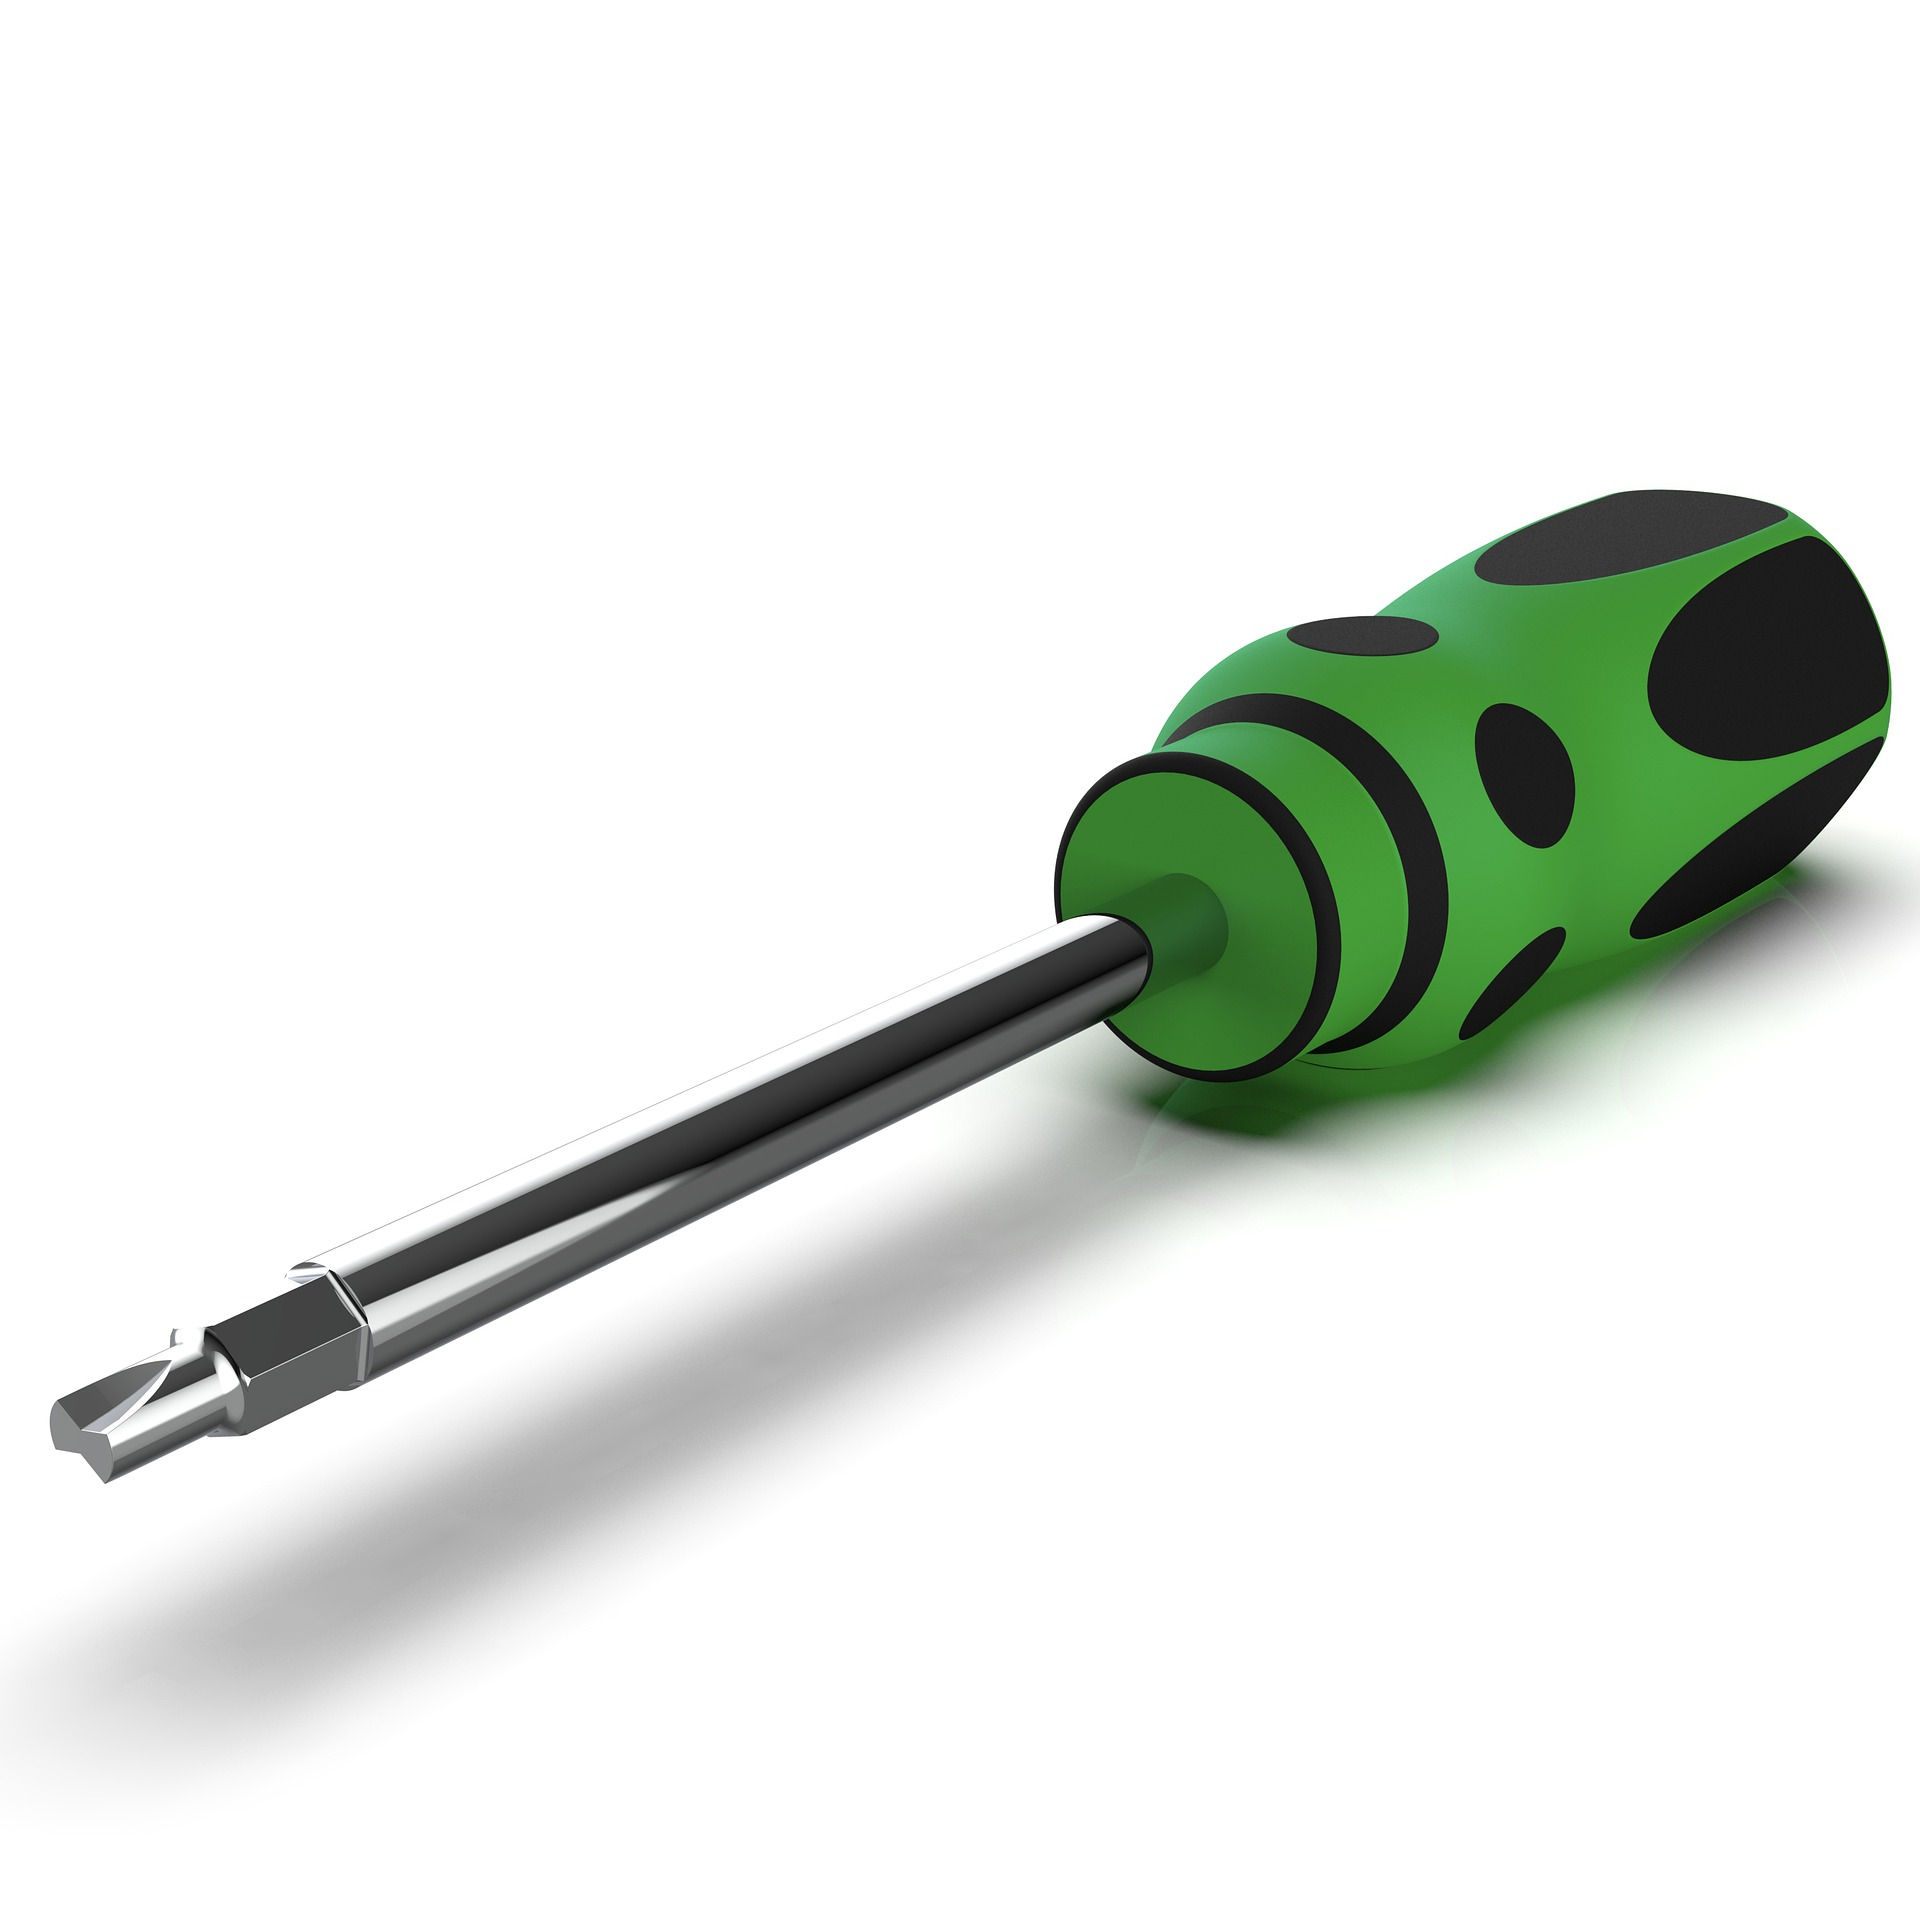screwdriver: (44, 485, 1892, 1489)
